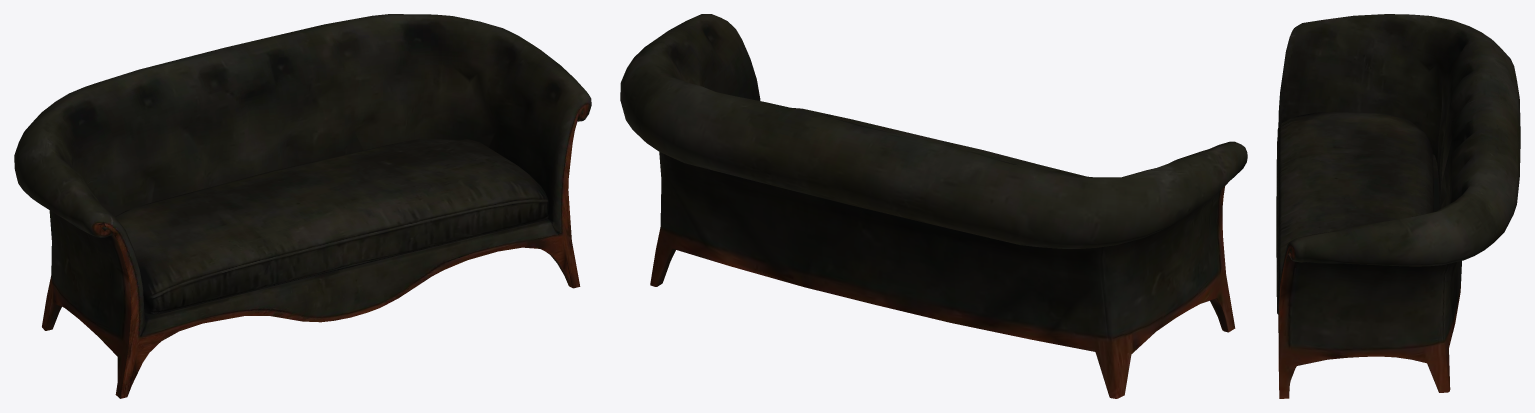
Rendered from sofa_02.glb.
The picture shows the model from 3 angles, left to right: view 1: azimuth 30°, elevation 25°; view 2: azimuth 150°, elevation 25°; view 3: azimuth 270°, elevation 25°; orthographic projection. The views are drawn at different scales.
Parts seen in each view (by area): view 1: sofa_02_Base; view 2: sofa_02_Base; view 3: sofa_02_Base.
Part boxes in pixels (bbox=[...]): sofa_02_Base: bbox=[14, 14, 591, 398]; sofa_02_Base: bbox=[620, 14, 1247, 398]; sofa_02_Base: bbox=[1276, 14, 1520, 398].
Bounding box in the file's own units: 1.81 × 0.7095 × 0.8178.
Materials: 1 (1 with a texture image).
